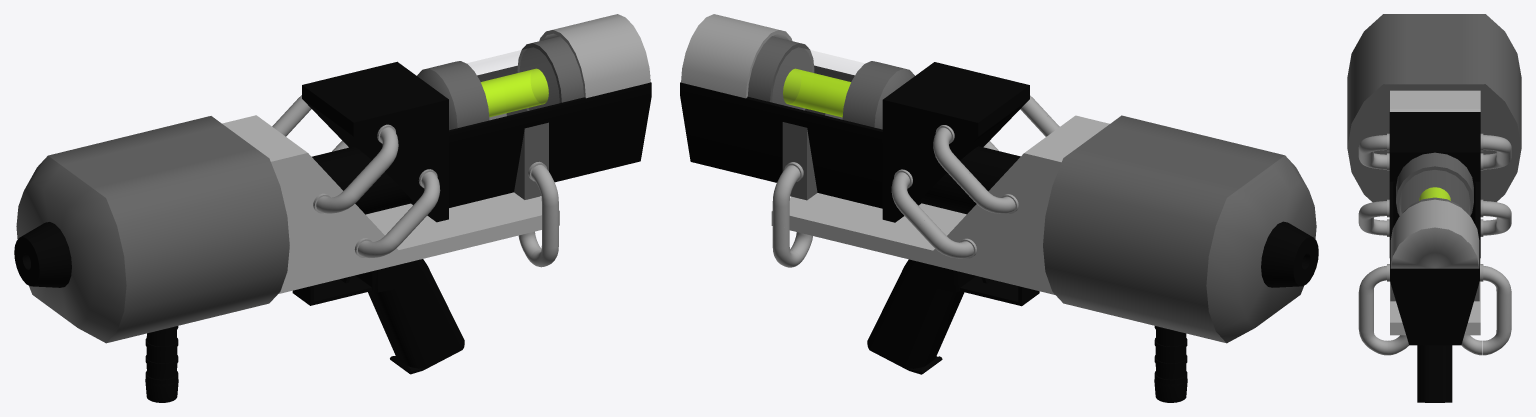
The model's file is RayGunColored.fbx.
3 renders of one model, left to right at view 1: azimuth 30°, elevation 25°; view 2: azimuth 150°, elevation 25°; view 3: azimuth 270°, elevation 25°, orthographic. The views are drawn at different scales.
Visible parts, largest first — view 1: pCylinder1, pCube1, pCube7, pCube2, pasted__pCube1, pPipe1, pPipe2, pasted__pasted__pCylinder1, pasted__pCylinder1, pCylinder4, pCylinder5, pCylinder10 (+9 smaller); view 2: pCylinder1, pCube1, pCube7, pCube2, pasted__pCube1, pPipe1, pPipe2, pasted__pasted__pCylinder1, pasted__pCylinder1, pCylinder4, pCylinder5, pCylinder10 (+9 smaller); view 3: pCylinder1, pCube7, pCube2, pasted__pCylinder1, pCube1, pCylinder3, pPipe1, pasted__pCube1, polySurface8, polySurface6, polySurface5, polySurface7 (+10 smaller).
Boxes of the visible parts, left/top/right/bottom form: pCylinder1: left=16, top=116, right=289, bottom=343; pCube1: left=222, top=115, right=559, bottom=293; pCube7: left=449, top=65, right=651, bottom=207; pCube2: left=302, top=61, right=448, bottom=222; pasted__pCube1: left=356, top=259, right=464, bottom=374; pPipe1: left=539, top=14, right=650, bottom=98; pPipe2: left=14, top=222, right=71, bottom=287; pasted__pasted__pCylinder1: left=517, top=36, right=583, bottom=110; pasted__pCylinder1: left=417, top=61, right=489, bottom=130; pCylinder4: left=312, top=146, right=412, bottom=214; pCylinder5: left=481, top=68, right=548, bottom=117; pCylinder10: left=145, top=327, right=178, bottom=402; pCylinder1: left=1043, top=115, right=1316, bottom=343; pCube1: left=771, top=115, right=1109, bottom=294; pCube7: left=680, top=65, right=882, bottom=208; pCube2: left=882, top=62, right=1029, bottom=222; pasted__pCube1: left=867, top=259, right=975, bottom=374; pPipe1: left=681, top=14, right=792, bottom=98; pPipe2: left=1261, top=221, right=1318, bottom=287; pasted__pasted__pCylinder1: left=747, top=36, right=814, bottom=110; pasted__pCylinder1: left=842, top=61, right=914, bottom=129; pCylinder4: left=919, top=146, right=1020, bottom=214; pCylinder5: left=783, top=68, right=850, bottom=117; pCylinder10: left=1154, top=327, right=1187, bottom=402; pCylinder1: left=1347, top=14, right=1521, bottom=202; pCube7: left=1390, top=181, right=1479, bottom=345; pCube2: left=1389, top=112, right=1480, bottom=258; pasted__pCylinder1: left=1396, top=152, right=1473, bottom=215; pCube1: left=1390, top=90, right=1480, bottom=335; pCylinder3: left=1391, top=227, right=1478, bottom=268; pPipe1: left=1390, top=199, right=1479, bottom=267; pasted__pCube1: left=1417, top=345, right=1452, bottom=402; polySurface8: left=1483, top=265, right=1511, bottom=313; polySurface6: left=1358, top=265, right=1386, bottom=313; polySurface5: left=1358, top=311, right=1387, bottom=355; polySurface7: left=1483, top=311, right=1511, bottom=355.
Size of the model in its own units: 16.11 by 7.57 by 4.61.
